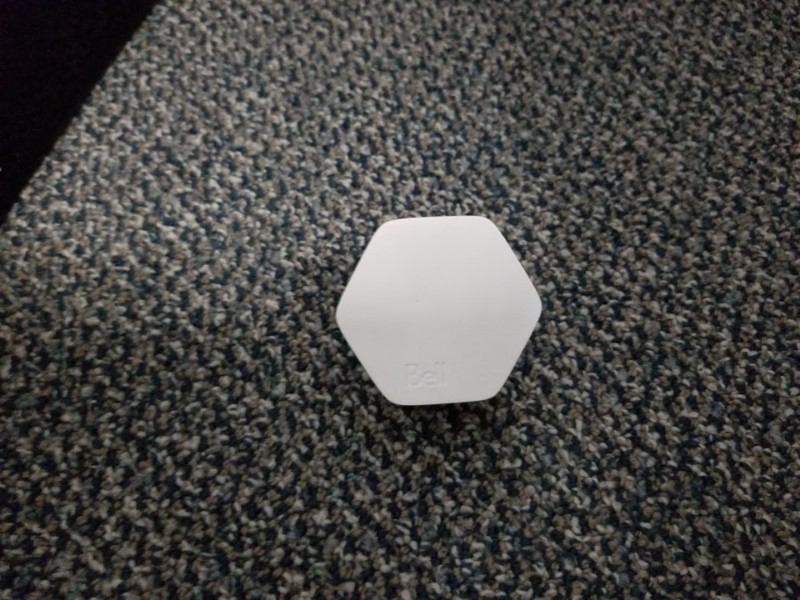pod: (334, 211, 550, 409)
